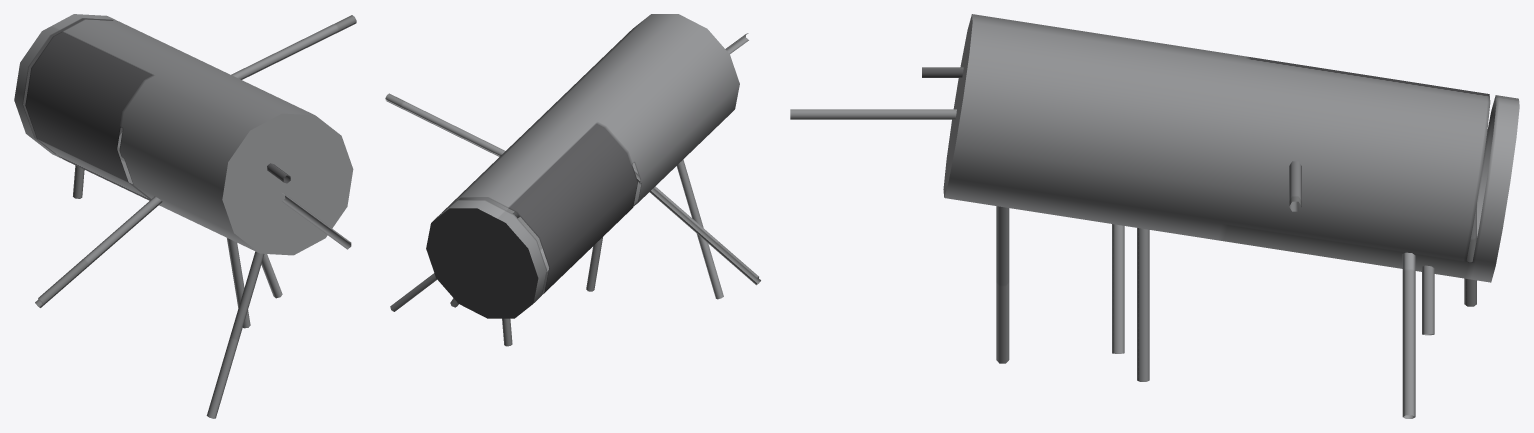
3 views of the same model, side by side, from view 1: azimuth 30°, elevation 25°; view 2: azimuth 150°, elevation 25°; view 3: azimuth 270°, elevation 25° (orthographic). The views are drawn at different scales.
Bounding box in the file's own units: 0.8626 × 0.6845 × 1.17.
